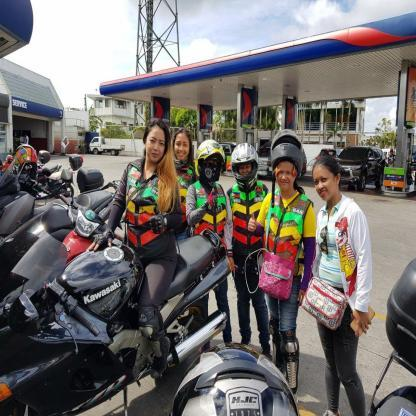helmet: (230, 142, 259, 191), (269, 129, 302, 172), (194, 139, 226, 182)
nohelmet: (312, 148, 342, 203), (143, 118, 171, 166), (172, 127, 192, 162)
